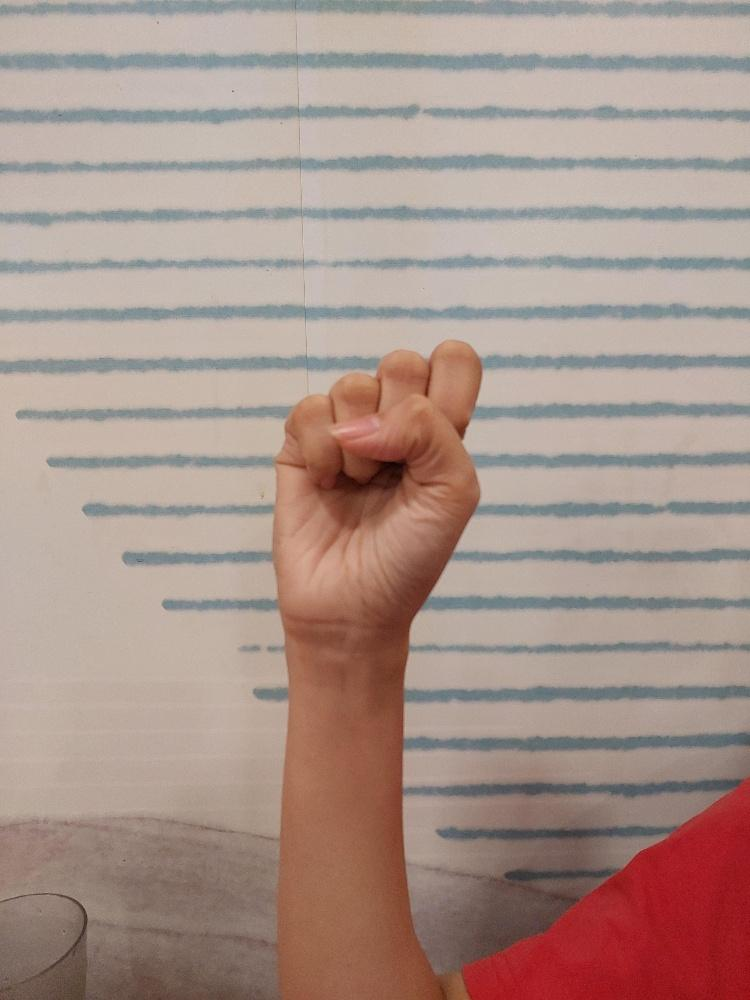s: (268, 336, 487, 646)
